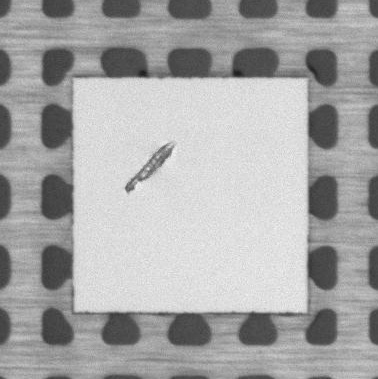DIE_INK: (124, 138, 180, 195)
